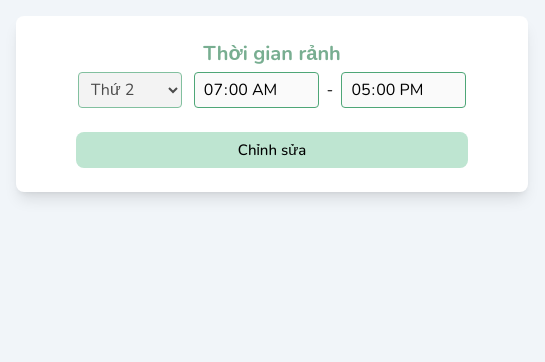
Test case: AvailableTimePage › cancels edit mode when cancel button is clicked
Click the button "Chỉnh sửa" at (272, 150), box [76,132,468,168]
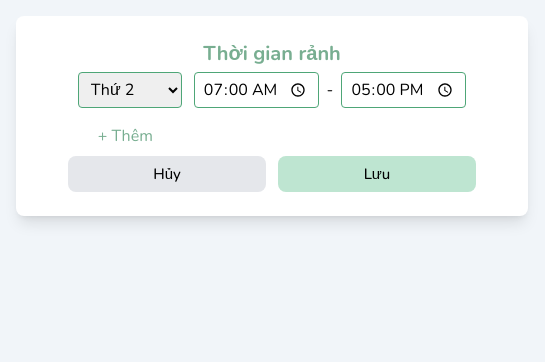
Click the button "Hủy" at (167, 174), box [68,156,266,192]
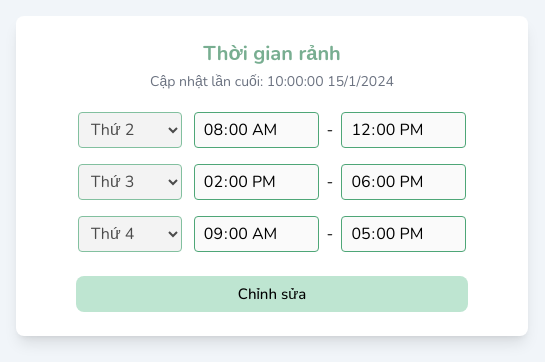
Now the button "+ Thêm" is gone
Now the button "Chỉnh sửa" is shown, box [76,276,468,312]
